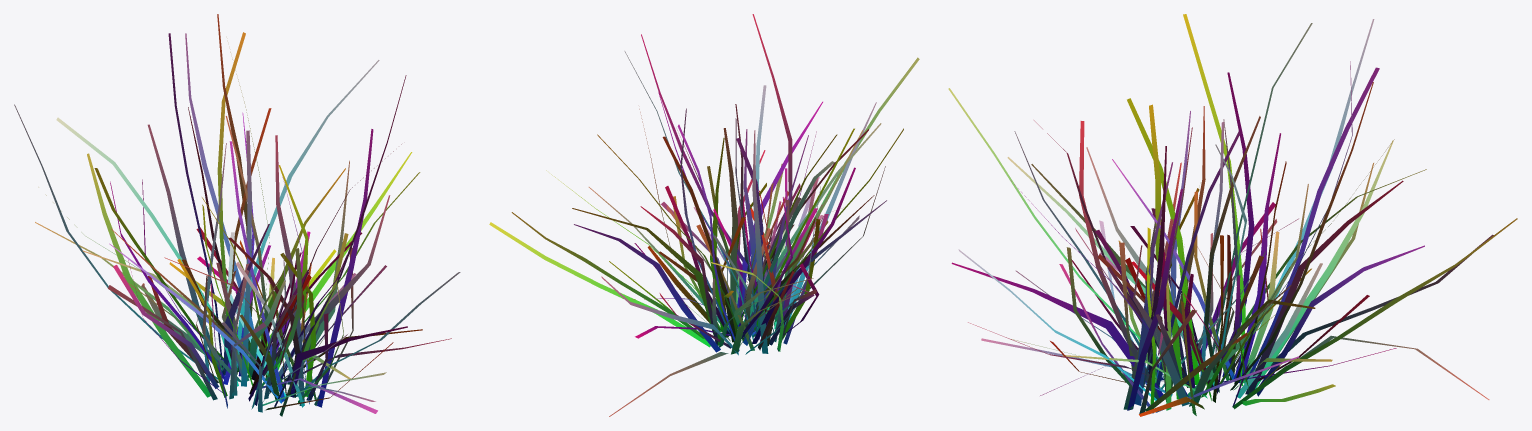
The model's file is Wild_Grass_vlkhcbxia_High_vlkhcbxia_VarD_LOD2.fbx.
The picture shows the model from 3 angles, left to right: view 1: azimuth 30°, elevation 25°; view 2: azimuth 150°, elevation 25°; view 3: azimuth 270°, elevation 25°; orthographic projection. The views are drawn at different scales.
Parts seen in each view (by area): view 1: _fqxp_VarD_LOD3; view 2: _fqxp_VarD_LOD3; view 3: _fqxp_VarD_LOD3.
Part boxes in pixels (<box>): _fqxp_VarD_LOD3: <box>14,14,460,416</box>; _fqxp_VarD_LOD3: <box>489,14,919,416</box>; _fqxp_VarD_LOD3: <box>948,14,1517,416</box>.
Bounding box in the file's own units: 35.88 × 27.21 × 41.49.
